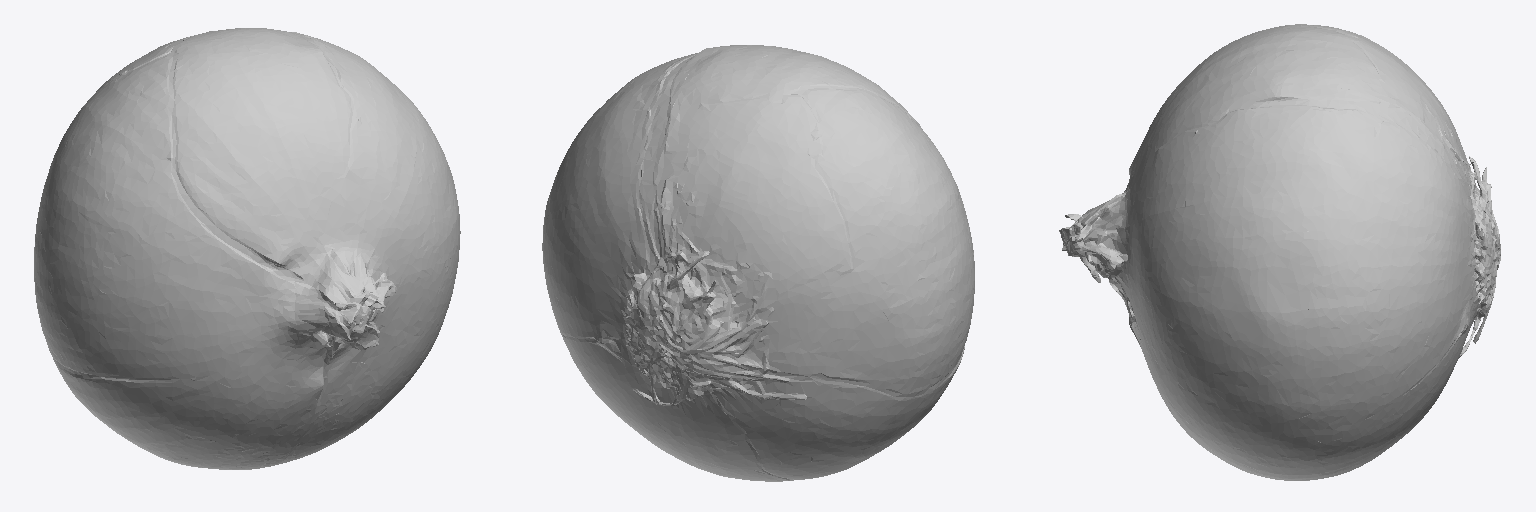
The model's file is onion LP.obj.
3 views of the same model, side by side, from view 1: azimuth 30°, elevation 25°; view 2: azimuth 150°, elevation 25°; view 3: azimuth 270°, elevation 25° (orthographic).
Bounding box in the file's own units: 1.69 × 1.69 × 1.65.